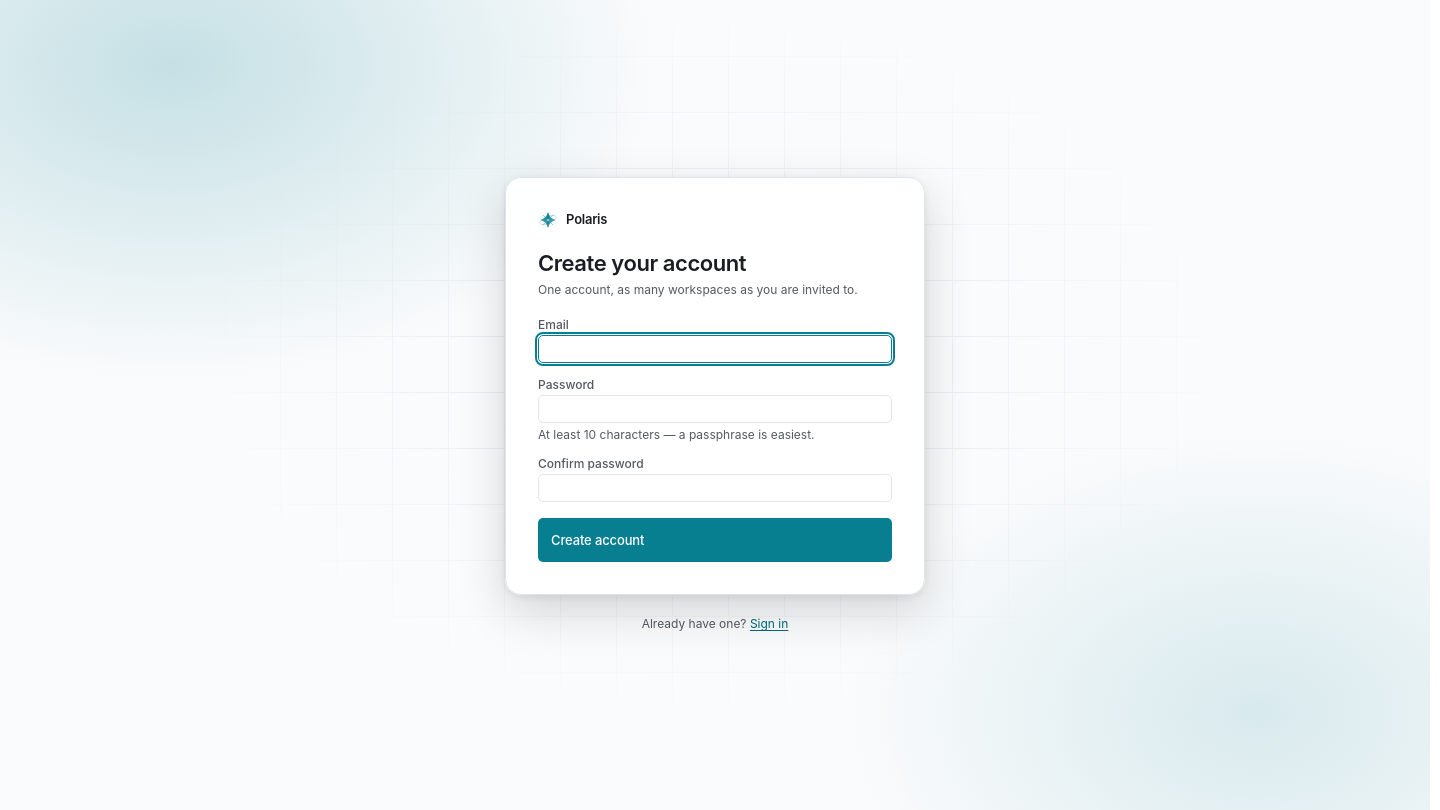
it: SignUp › marks the field the server named rather than banging a banner over the form
The width and height of the screenshot is (1440, 810).
Type "ada@example.com" into the field labelled "Email" at (715, 349), box top-left (547, 336), bottom-right (883, 362)
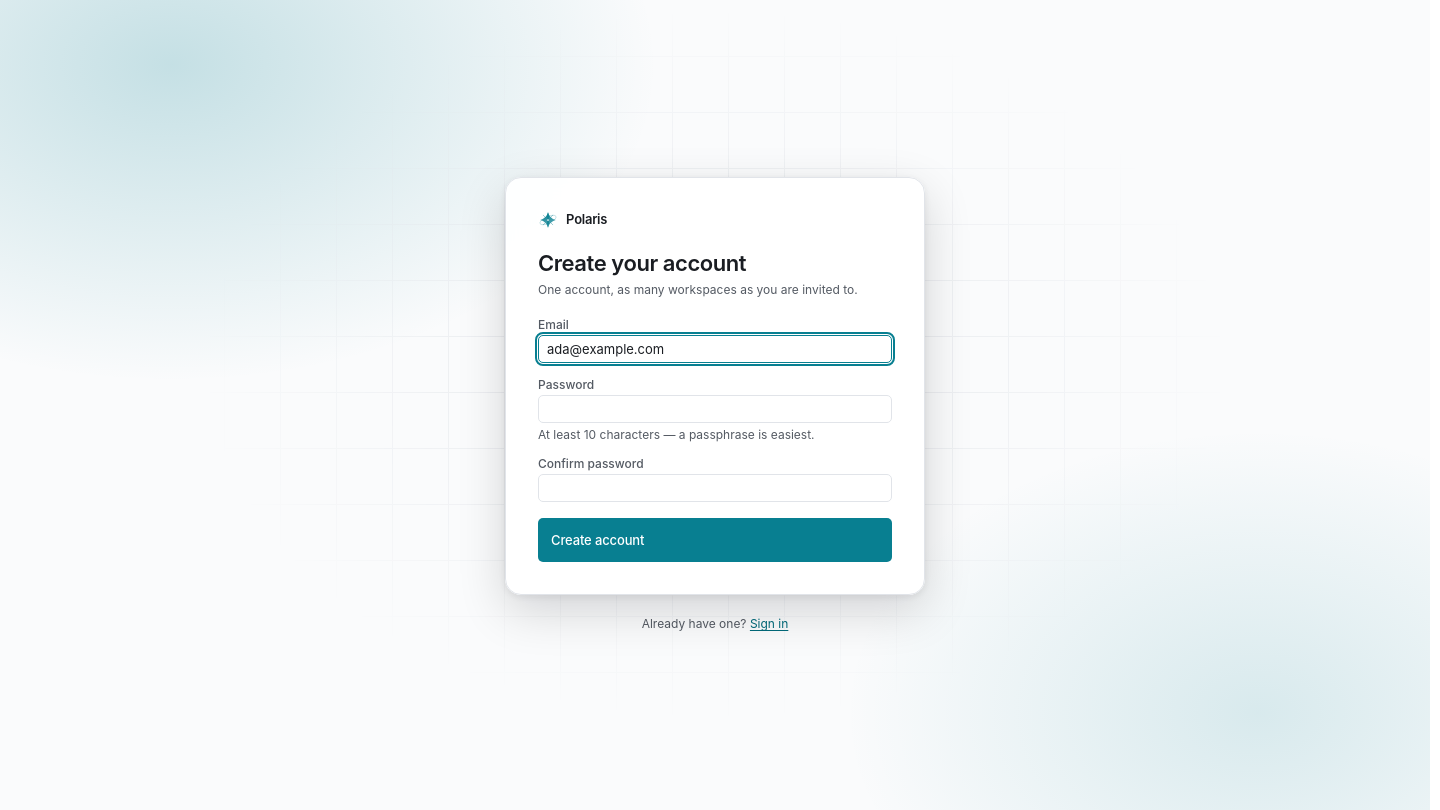
Type "passphrase1" into the password field labelled "Password" at (715, 409), box top-left (547, 396), bottom-right (883, 422)
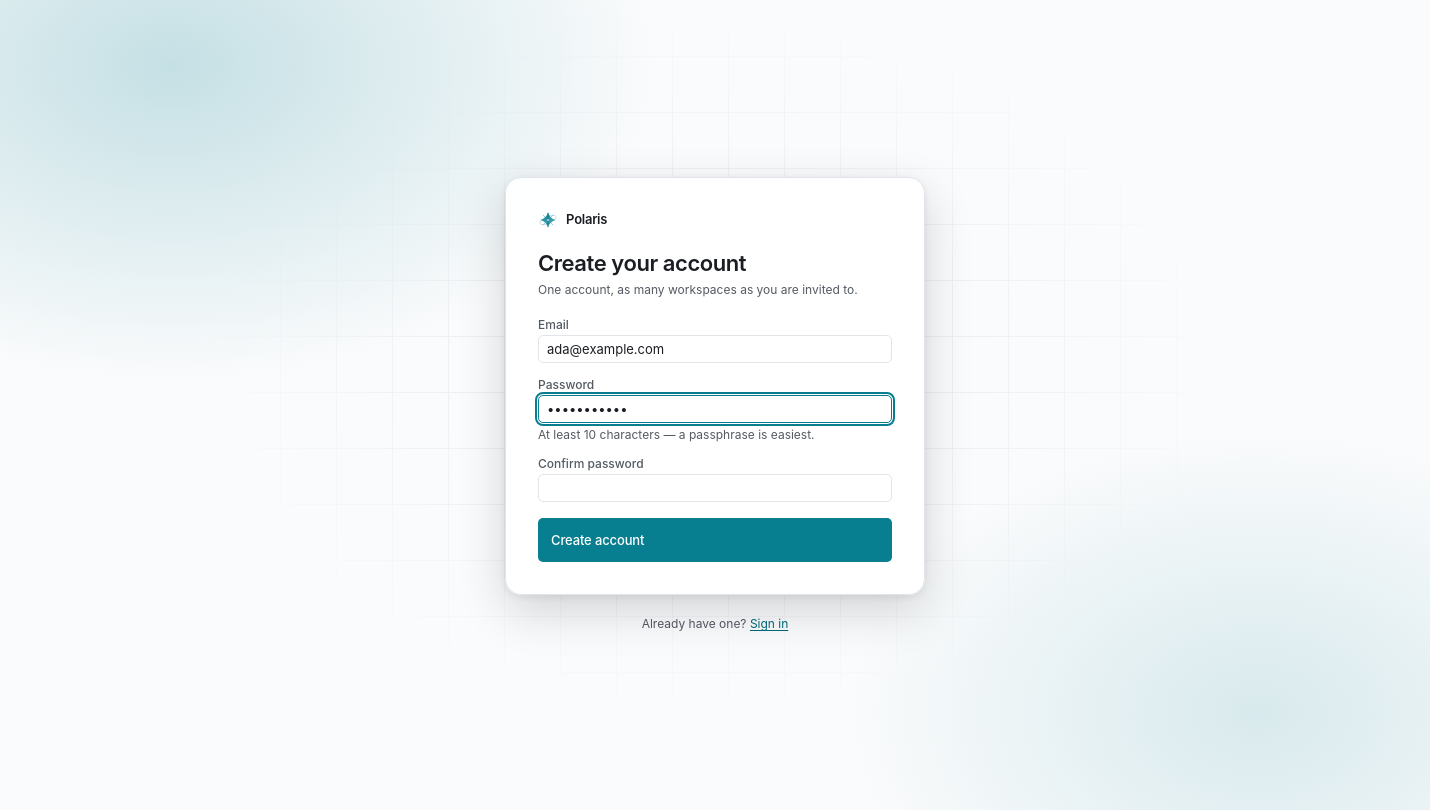
Type "passphrase1" into the password field labelled "Confirm password" at (715, 488), box top-left (547, 475), bottom-right (883, 501)
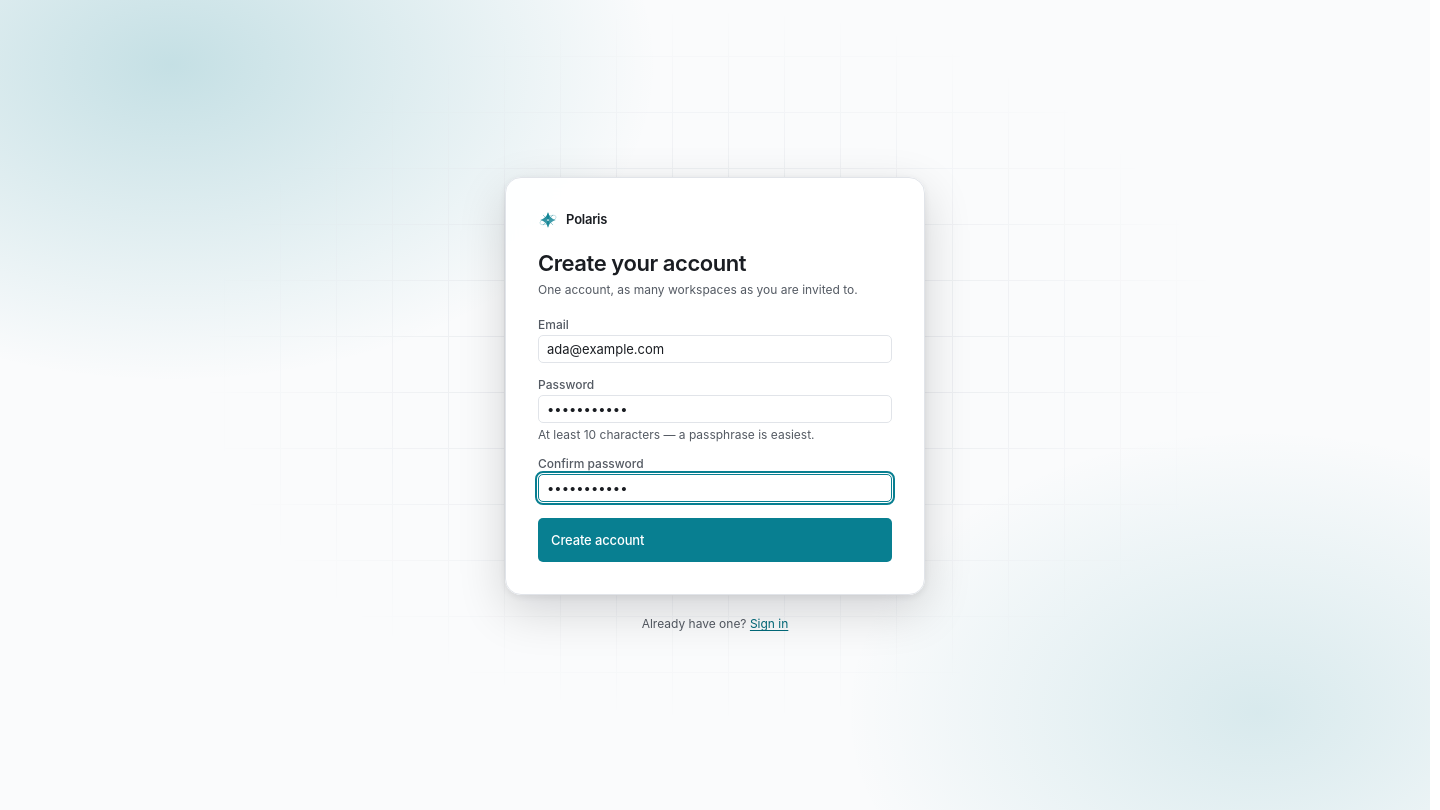
Click the button "Create account" at (598, 540), box top-left (538, 518), bottom-right (892, 562)
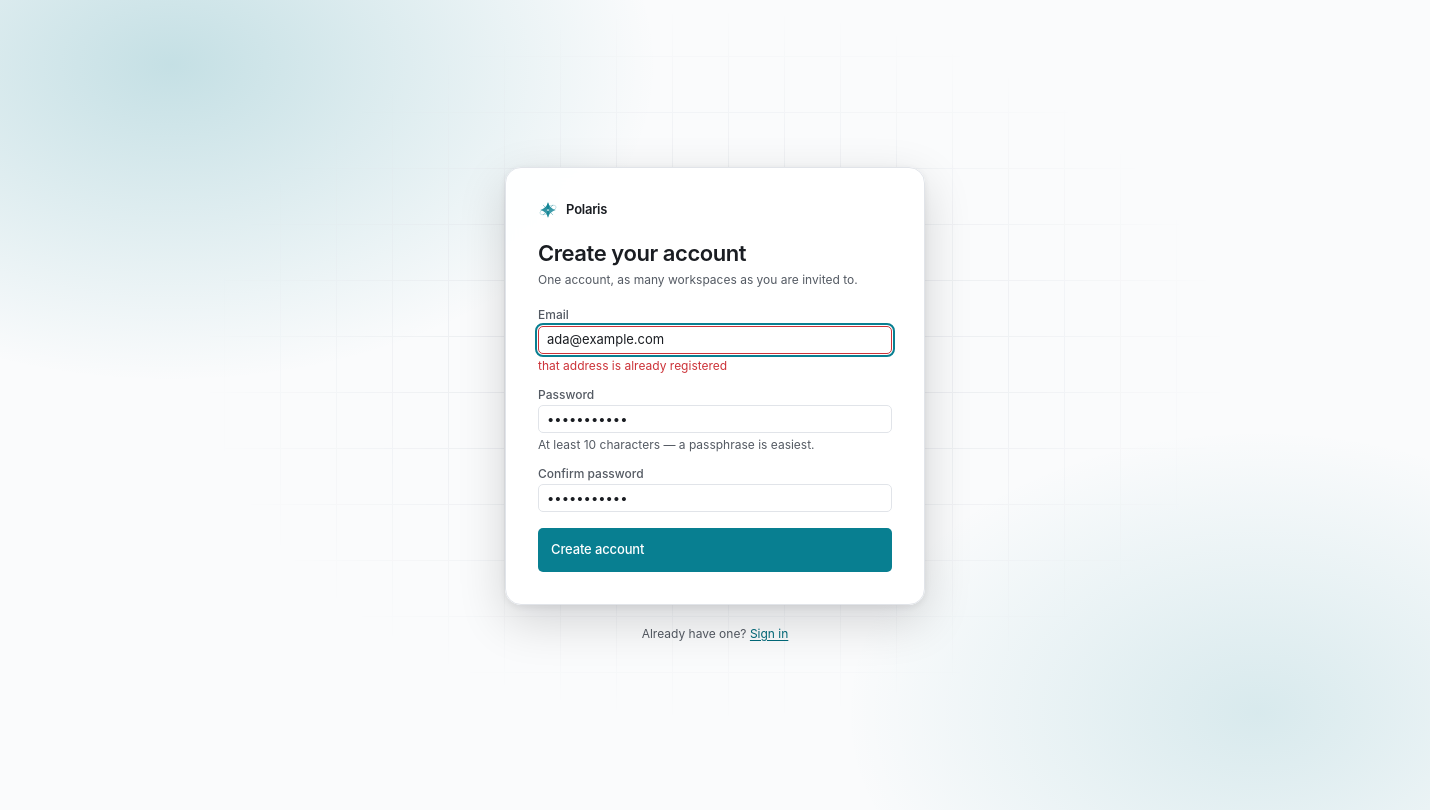
expect the message shows "already registered": met, box top-left (538, 358), bottom-right (727, 373)
